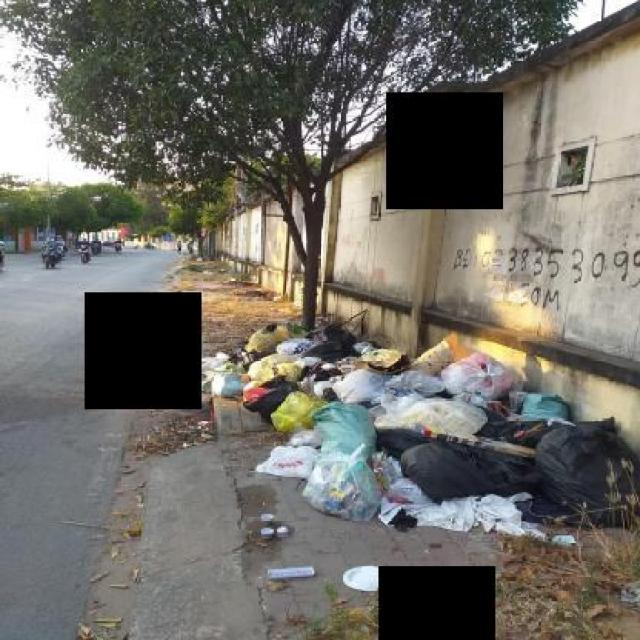plastic bag: (178, 316, 640, 558), (529, 409, 631, 537), (302, 398, 388, 517), (257, 437, 315, 478)
